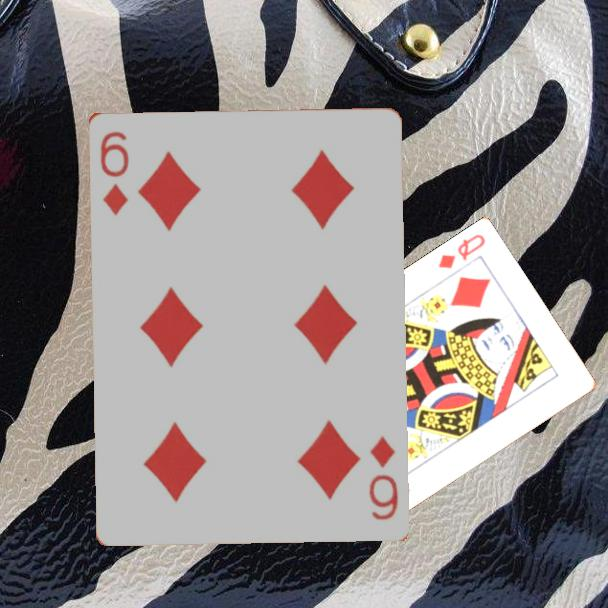d06: (364, 432, 401, 523), (96, 128, 131, 218)
d12: (434, 231, 488, 272)
